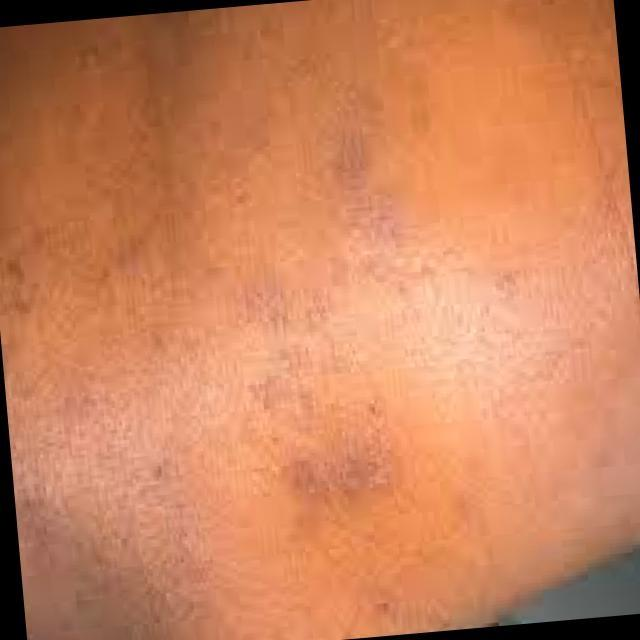Eczema: (245, 182, 432, 536)
